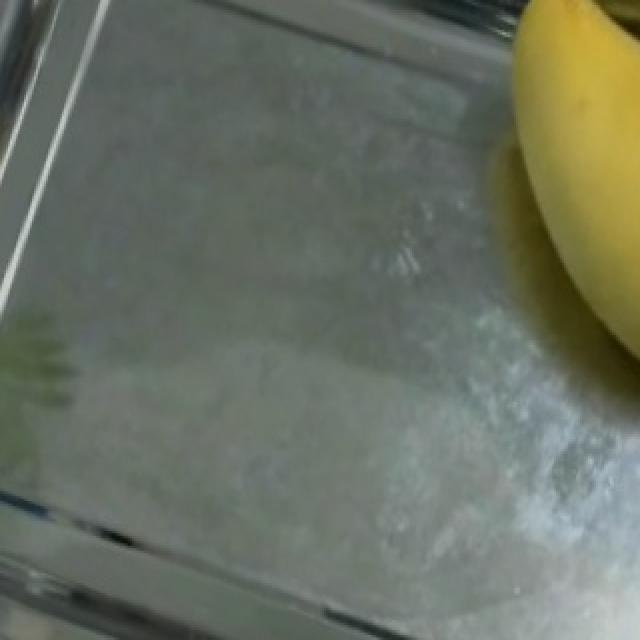fruit: (448, 8, 640, 384)
